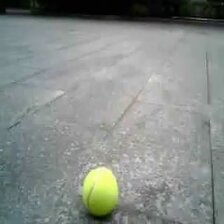tennis: (83, 168, 117, 214)
